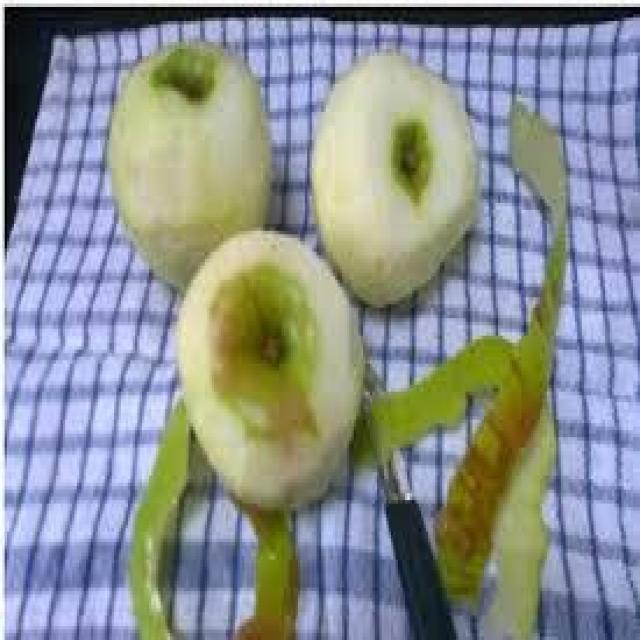Banana: (180, 233, 372, 512), (305, 43, 487, 302), (110, 37, 278, 285)
